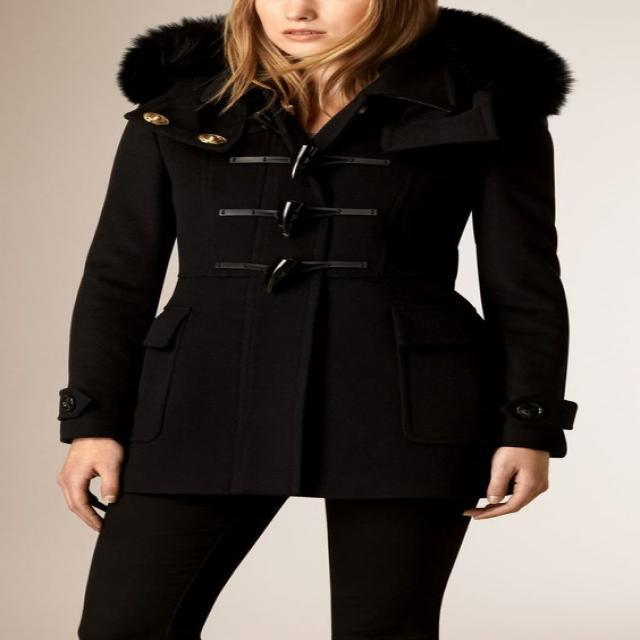coat: (54, 11, 582, 493)
trousers: (78, 446, 488, 640)
